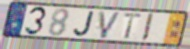3: (23, 5, 49, 36)
8: (47, 7, 71, 38)
I: (140, 13, 155, 43)
J: (73, 10, 96, 38)
T: (122, 12, 144, 41)
V: (98, 10, 122, 40)
